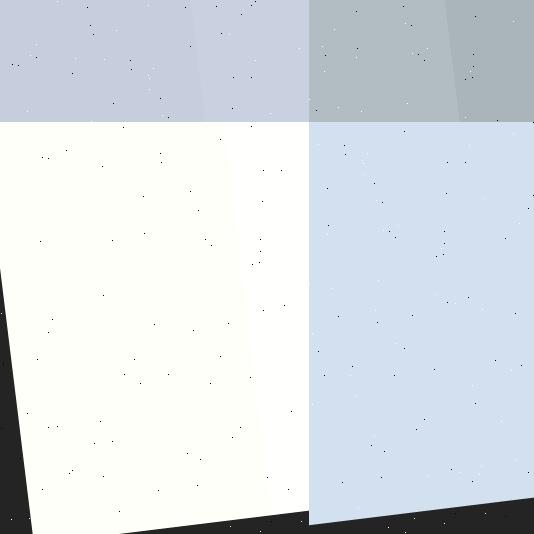snake: (0, 0, 309, 122), (309, 0, 534, 122)
